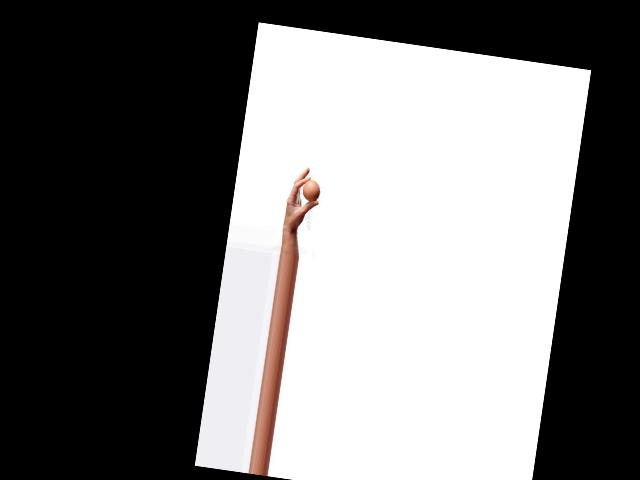egg: (301, 179, 321, 203)
